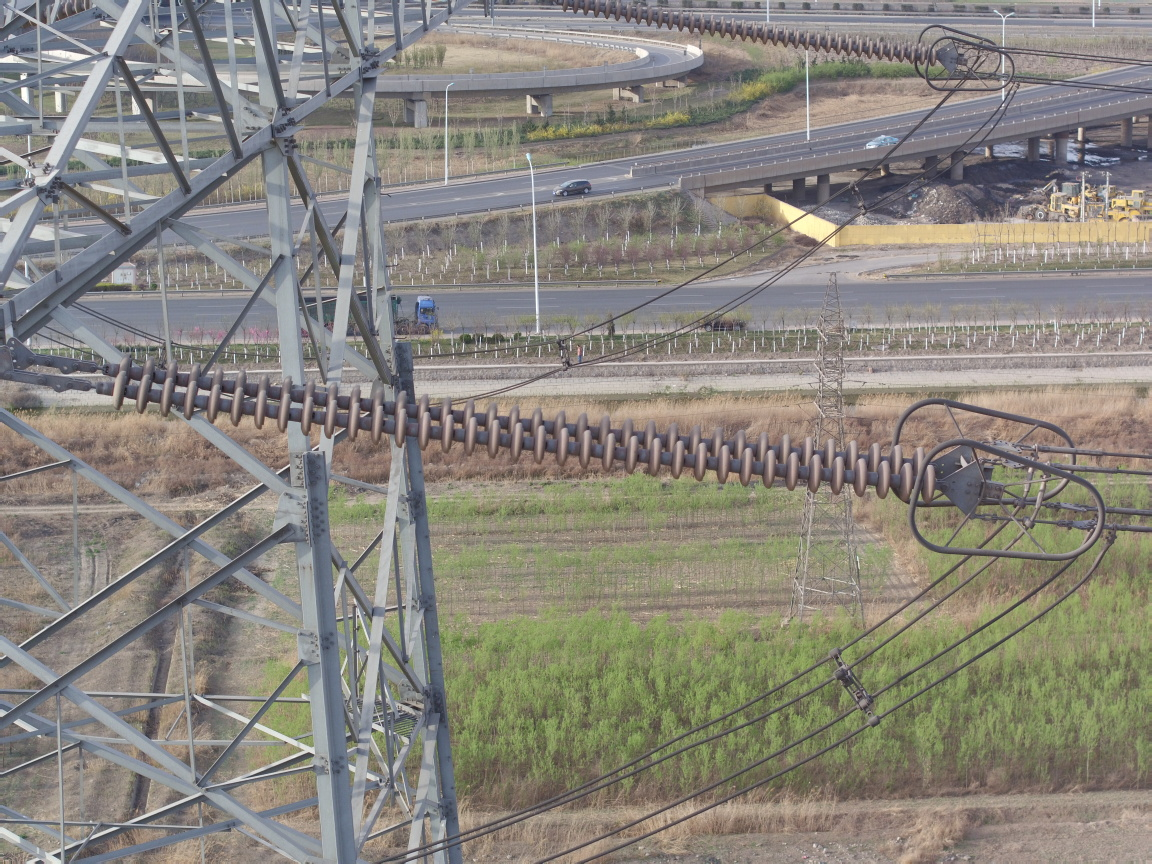insulator: (49, 346, 958, 510), (548, 1, 951, 70)
